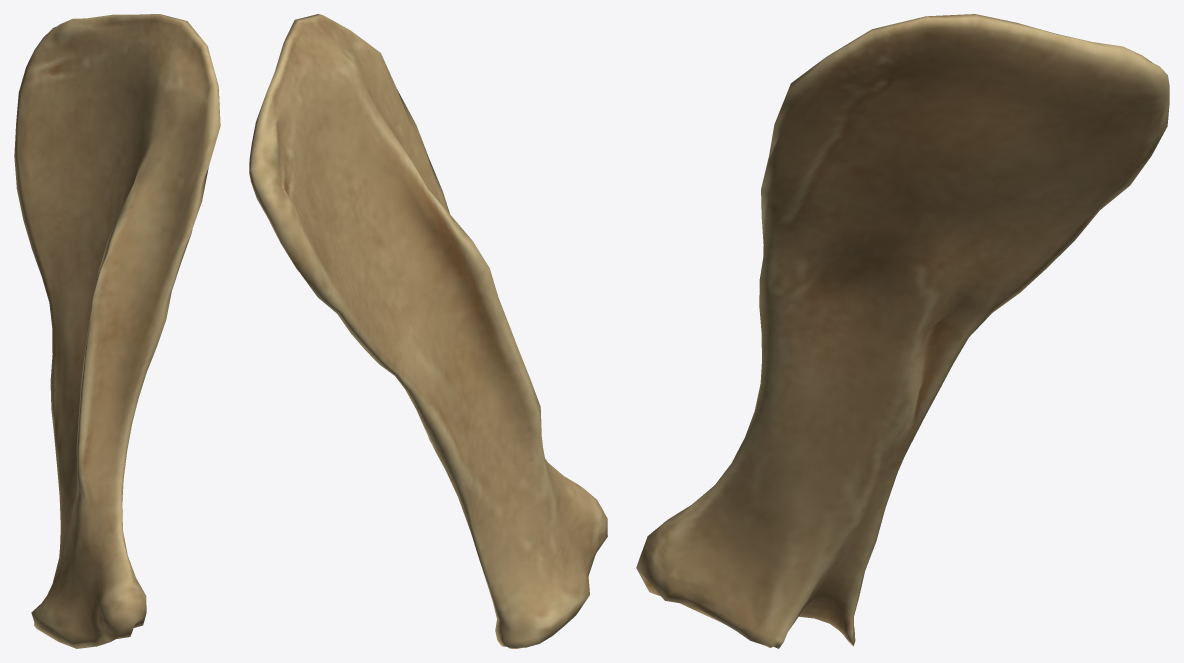
The model's file is Scapula.glb.
3 views of the same model, side by side, from view 1: azimuth 30°, elevation 25°; view 2: azimuth 150°, elevation 25°; view 3: azimuth 270°, elevation 25° (orthographic). The views are drawn at different scales.
Visible parts, largest first — view 1: R_Scapula; view 2: R_Scapula; view 3: R_Scapula.
Part boxes in pixels (x1,y1,x2,y2): R_Scapula: (14,14,220,648); R_Scapula: (249,14,607,648); R_Scapula: (636,14,1169,648).
Size of the model in its own units: 0.1337 by 0.3555 by 0.2349.
1 material, 1 textured.
